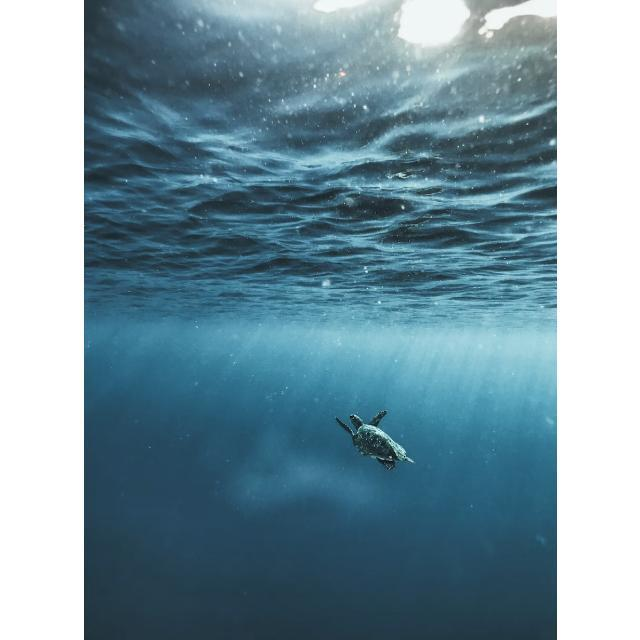turtle: (335, 411, 415, 472)
